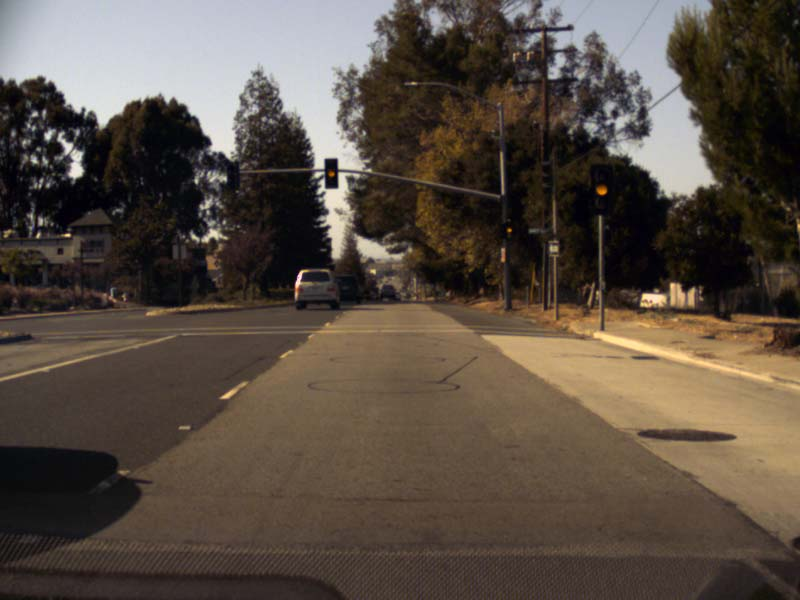Yellow: (592, 163, 613, 213), (323, 158, 337, 188), (504, 217, 513, 239)
